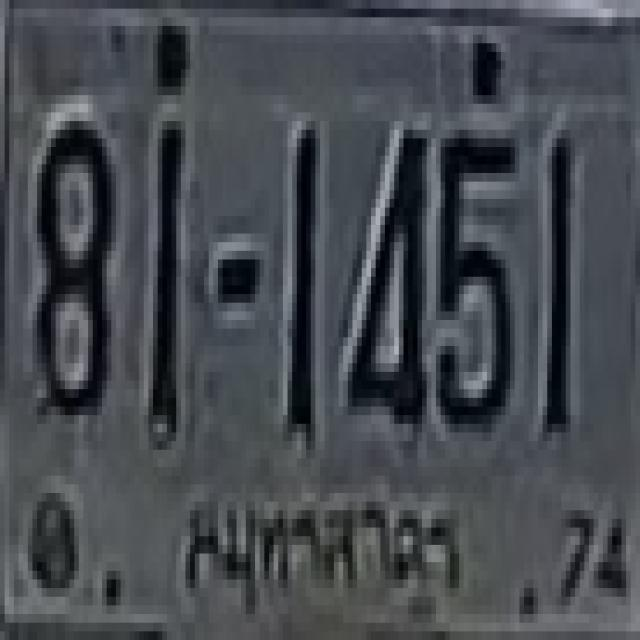1: (148, 121, 181, 433), (285, 121, 313, 433), (288, 121, 316, 433), (542, 134, 566, 428)
4: (343, 117, 422, 419)
5: (433, 121, 512, 424)
8: (32, 112, 112, 406)
SKN: (172, 460, 476, 624)
